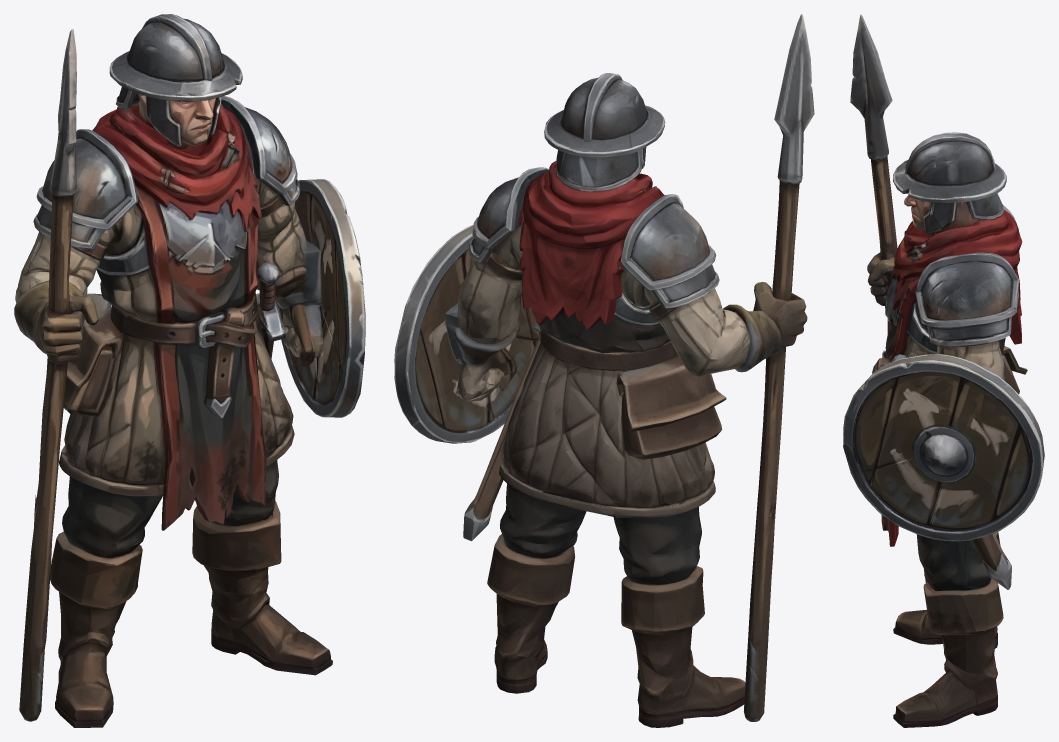
Rendered from grim_foot_soldier_pawn.glb.
The picture shows the model from 3 angles, left to right: view 1: azimuth 30°, elevation 25°; view 2: azimuth 150°, elevation 25°; view 3: azimuth 270°, elevation 25°; orthographic projection. The views are drawn at different scales.
Parts seen in each view (by area): view 1: Mesh_0; view 2: Mesh_0; view 3: Mesh_0.
Boxes of the visible parts, bbox=[...] form: Mesh_0: bbox=[14, 14, 365, 727]; Mesh_0: bbox=[394, 14, 814, 727]; Mesh_0: bbox=[843, 14, 1044, 727].
Bounding box in the file's own units: 0.9505 × 1.9 × 0.5805.
Materials: 1 (1 with a texture image).
